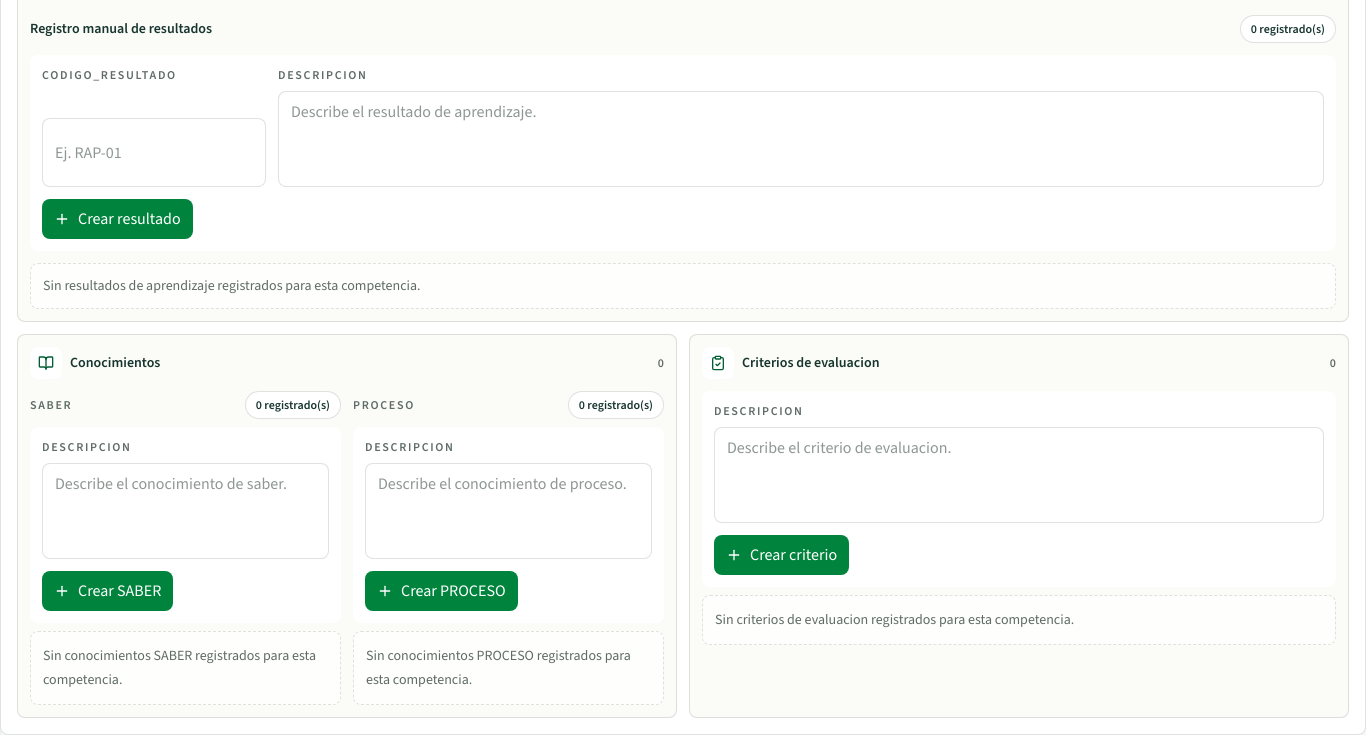
Test: ProgramaCompetenciasManager › should show duplicate error for criterio
The width and height of the screenshot is (1366, 735).
(page scrolled)
Expected: the heading "Criterios de evaluacion" is shown, left=742, top=353, right=880, bottom=373
Type "Duplicado" into the 2nd text box with placeholder "Describe el criterio de evaluacion." at (1019, 475), box left=714, top=427, right=1324, bottom=523
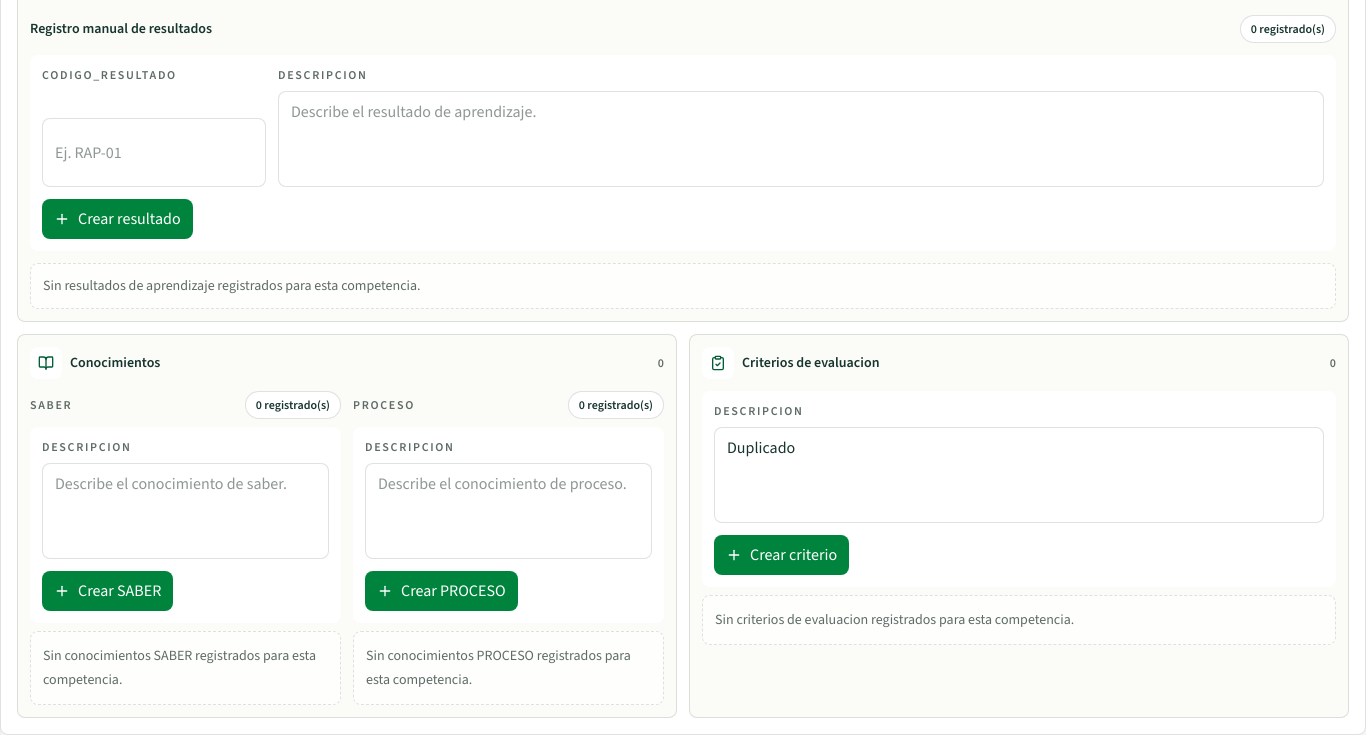
Submit the form "descripcion Crear criterio", box left=702, top=391, right=1336, bottom=587
(page scrolled)
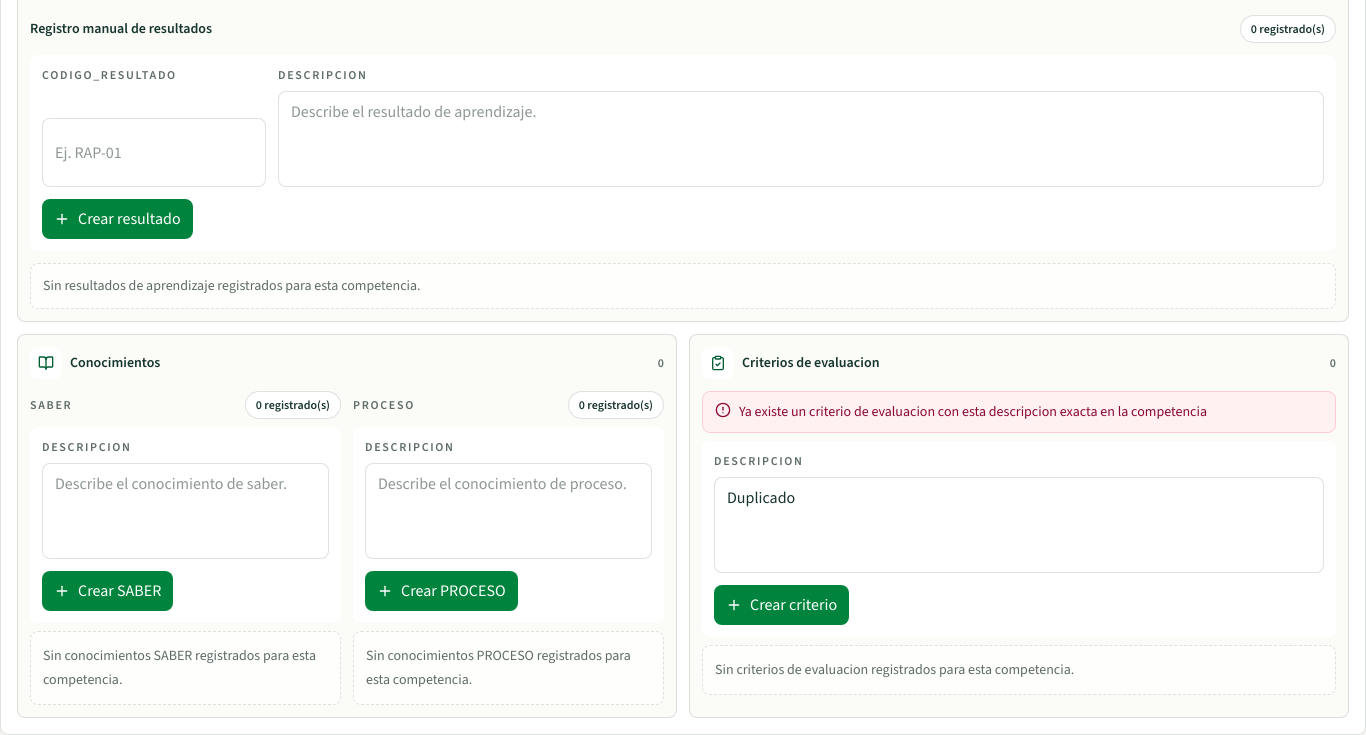
Expected: the text "Ya existe un criterio de evaluacion con esta descripcion exacta en la competencia" is shown, left=739, top=402, right=1207, bottom=421
